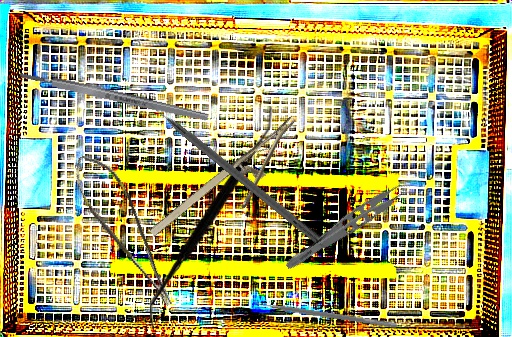Hook Surgical: (143, 95, 325, 246)
Micro Scissor: (66, 145, 178, 320)
Needle Holder: (145, 115, 320, 262)
Scalpel Handle: (18, 69, 209, 123)
Spatula Surgical: (150, 106, 274, 329), (249, 295, 399, 329)
Tissue Forceps: (282, 174, 417, 281)
